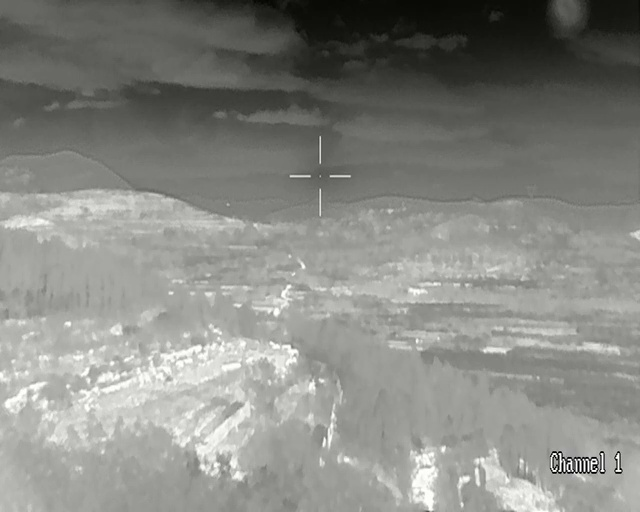uav: (226, 203, 228, 205)
